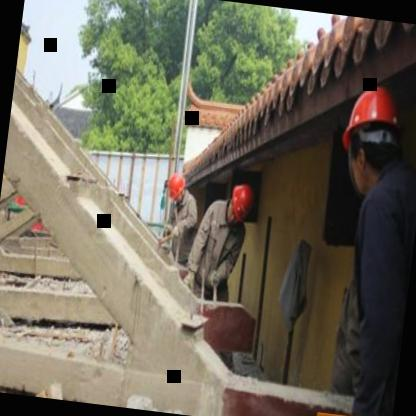helmet: (336, 80, 410, 196), (224, 179, 258, 227), (164, 168, 189, 206)
